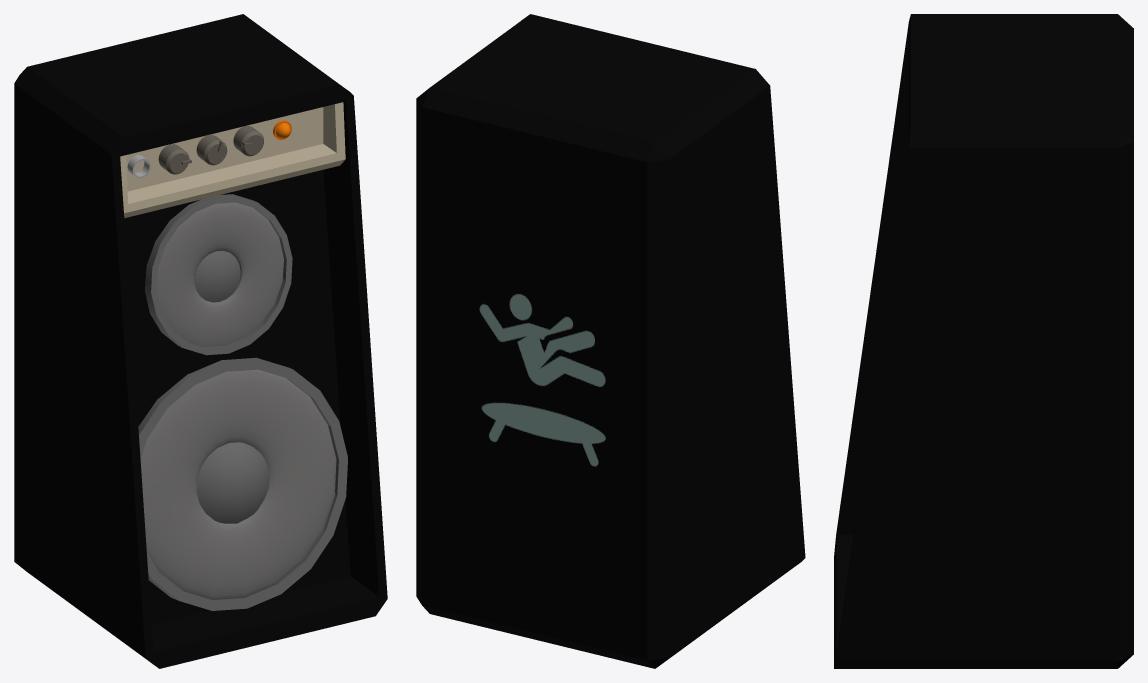
The model's file is JumpSpeaker.fbx.
3 views of the same model, side by side, from view 1: azimuth 30°, elevation 25°; view 2: azimuth 150°, elevation 25°; view 3: azimuth 270°, elevation 25° (orthographic). The views are drawn at different scales.
Visible parts, largest first — view 1: pCube3, pTorus1, pTorus2, pCube6, pCylinder3, pSphere1, pCylinder4, pSphere2, pCube8, pCube9, pCube10; view 2: pCube3; view 3: pCube3.
Part boxes in pixels (x1,y1,x2,y2): pCube3: [14, 14, 387, 668]; pTorus1: [140, 369, 336, 599]; pTorus2: [157, 202, 283, 348]; pCube6: [120, 102, 345, 218]; pCylinder3: [138, 357, 347, 610]; pSphere1: [196, 442, 269, 523]; pCylinder4: [145, 194, 292, 355]; pSphere2: [194, 251, 240, 302]; pCube8: [158, 144, 191, 174]; pCube9: [196, 135, 227, 165]; pCube10: [233, 126, 264, 156]; pCube3: [416, 14, 805, 668]; pCube3: [834, 14, 1133, 668].
Size of the model in its own units: 3.97 by 7.93 by 3.97.
Materials: 7 (1 with a texture image).
